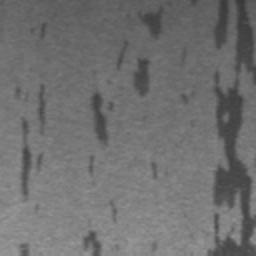Red iron sheet: (88, 0, 256, 256), (14, 81, 46, 197), (83, 196, 118, 256), (40, 23, 49, 40), (19, 243, 29, 256), (151, 163, 159, 179)
